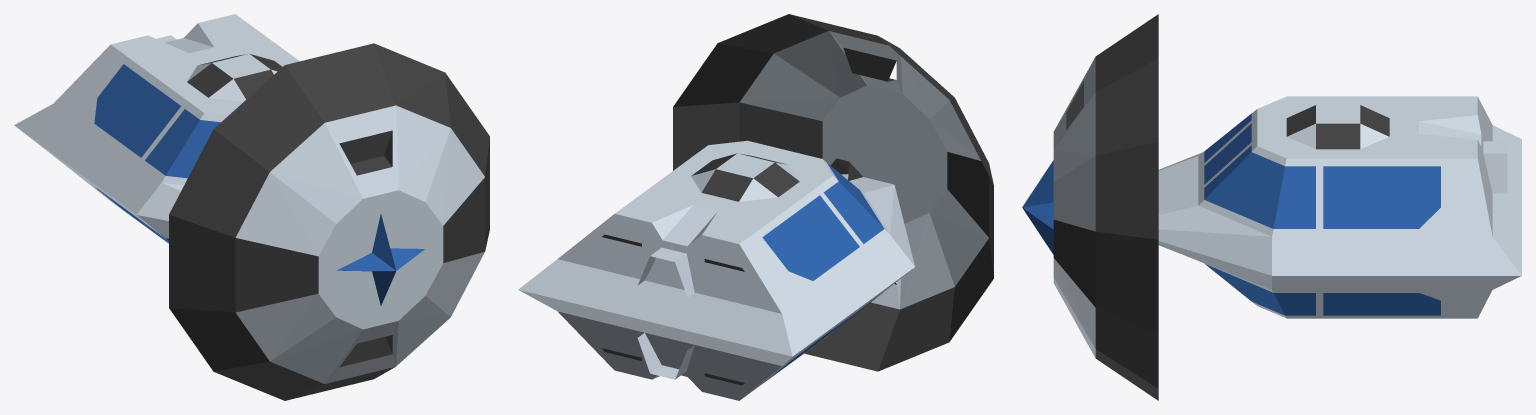
Rendered from Enemy2.FBX.
3 renders of one model, left to right at view 1: azimuth 30°, elevation 25°; view 2: azimuth 150°, elevation 25°; view 3: azimuth 270°, elevation 25°, orthographic.
Parts seen in each view (by area): view 1: VIFS004, VIFS005, VIFS001, VIFS002, VIFS006, VIFS003, VIFS007; view 2: VIFS001, VIFS005, VIFS004, VIFS007, VIFS002, VIFS003; view 3: VIFS001, VIFS004, VIFS002, VIFS007, VIFS005, VIFS008, VIFS003, VIFS006.
Part boxes in pixels (x1,y1,x2,y2): VIFS004: (169,43,489,400); VIFS005: (235,105,484,383); VIFS001: (14,14,299,220); VIFS002: (94,64,220,178); VIFS006: (337,214,424,305); VIFS003: (187,54,282,99); VIFS007: (19,129,168,243); VIFS001: (518,140,914,356); VIFS005: (739,31,988,309); VIFS004: (673,14,993,371); VIFS007: (519,269,911,400); VIFS002: (762,163,884,280); VIFS003: (602,153,862,271); VIFS001: (1158,96,1521,275); VIFS004: (1053,14,1158,400); VIFS002: (1204,113,1440,228); VIFS007: (1158,241,1520,318); VIFS005: (1053,57,1095,357); VIFS008: (1205,264,1440,315); VIFS003: (1286,105,1389,149); VIFS006: (1022,160,1053,254).
Size of the model in its own units: 1.29 by 1.29 by 1.7.
